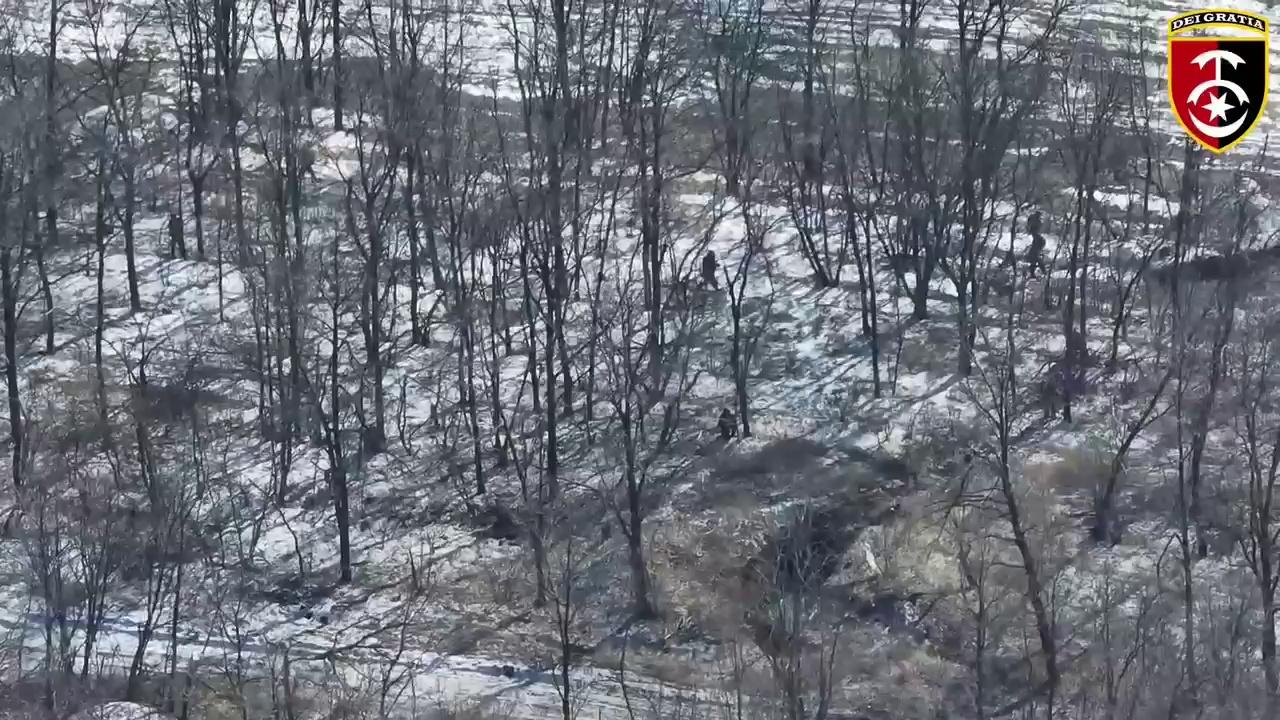person: (1040, 370, 1060, 423), (700, 250, 721, 292), (714, 407, 738, 442), (168, 214, 184, 260), (1028, 241, 1047, 274), (1025, 207, 1045, 238)
